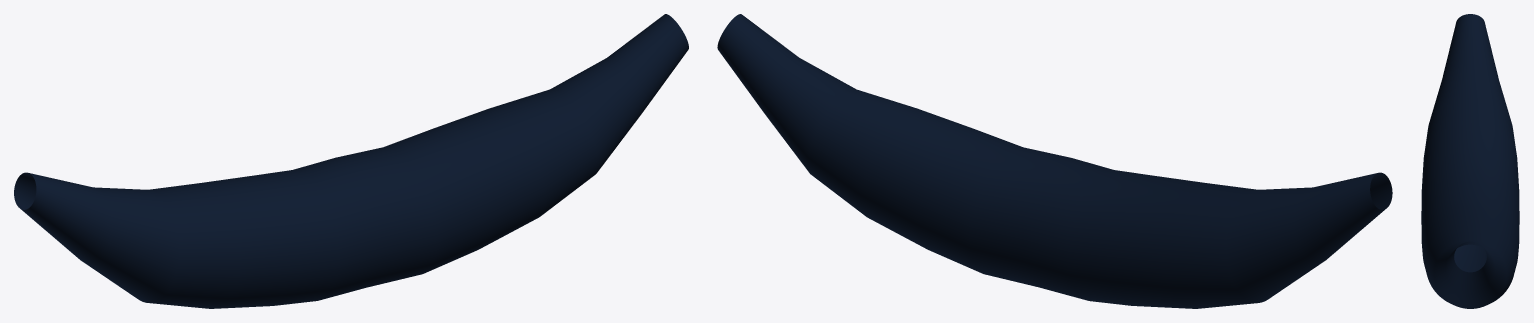
Rendered from defaultMouth.dae.
3 renders of one model, left to right at view 1: azimuth 30°, elevation 25°; view 2: azimuth 150°, elevation 25°; view 3: azimuth 270°, elevation 25°, orthographic. The views are drawn at different scales.
Parts seen in each view (by area): view 1: Mouth; view 2: Mouth; view 3: Mouth.
Part boxes in pixels (x1,y1,x2,y2): Mouth: (14, 14, 688, 308); Mouth: (717, 14, 1392, 308); Mouth: (1421, 14, 1519, 308).
Bounding box in the file's own units: 31.27 × 8.6 × 5.46.
